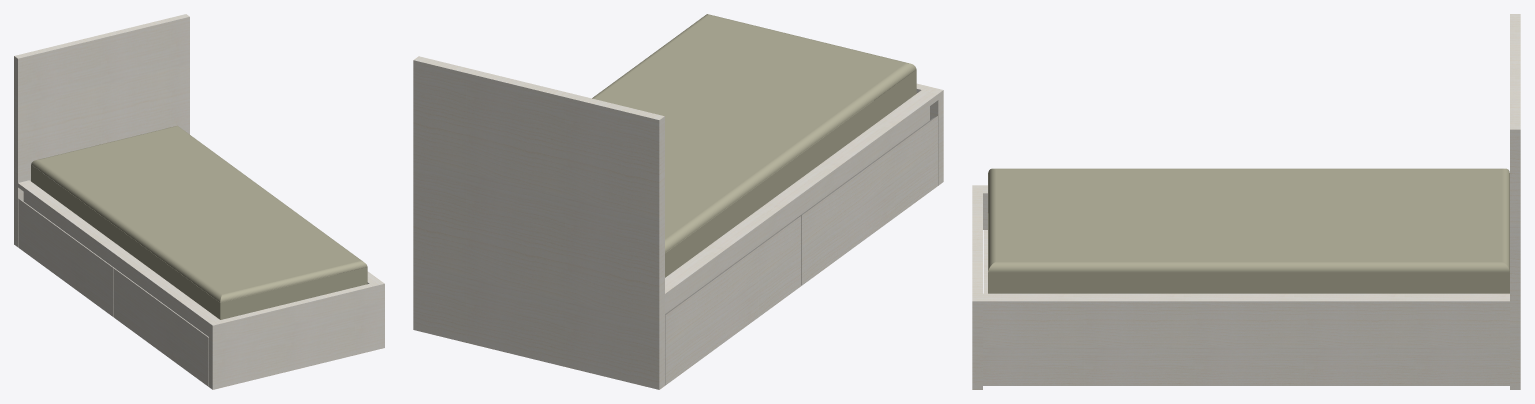
The model's file is childBed.obj.
3 renders of one model, left to right at view 1: azimuth 30°, elevation 25°; view 2: azimuth 150°, elevation 25°; view 3: azimuth 270°, elevation 25°, orthographic. The views are drawn at different scales.
Parts seen in each view (by area): view 1: Mesh3_Group1_Model, Mesh6_Group2_Model, Mesh9_Komponente_3_1_Model, Mesh11_Komponente_3_2_Model; view 2: Mesh3_Group1_Model, Mesh6_Group2_Model, Mesh11_Komponente_3_2_Model, Mesh9_Komponente_3_1_Model; view 3: Mesh6_Group2_Model, Mesh3_Group1_Model.
Part boxes in pixels (x1,y1,x2,y2): Mesh3_Group1_Model: [14, 14, 384, 389]; Mesh6_Group2_Model: [31, 125, 367, 319]; Mesh9_Komponente_3_1_Model: [18, 198, 116, 316]; Mesh11_Komponente_3_2_Model: [113, 268, 208, 386]; Mesh3_Group1_Model: [413, 56, 943, 389]; Mesh6_Group2_Model: [592, 14, 916, 277]; Mesh11_Komponente_3_2_Model: [797, 116, 937, 285]; Mesh9_Komponente_3_1_Model: [665, 216, 801, 385]; Mesh6_Group2_Model: [988, 168, 1509, 293]; Mesh3_Group1_Model: [972, 14, 1520, 389].
Bounding box in the file's own units: 105 × 110 × 210.
